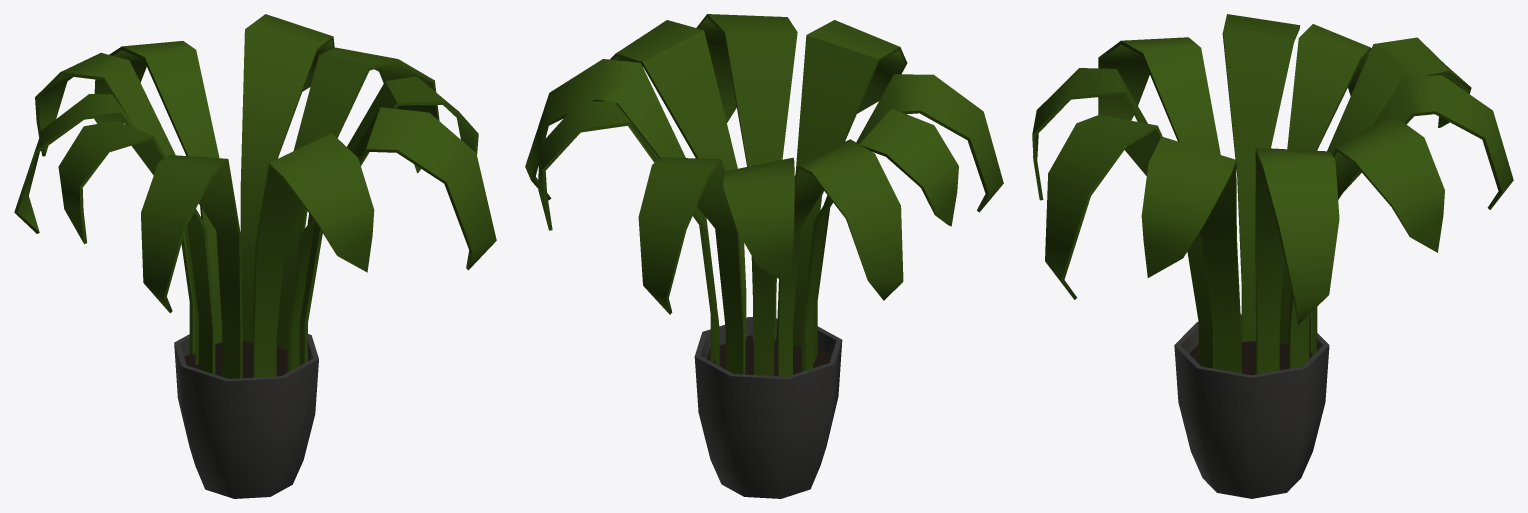
Rendered from Houseplant_6.obj.
3 views of the same model, side by side, from view 1: azimuth 30°, elevation 25°; view 2: azimuth 150°, elevation 25°; view 3: azimuth 270°, elevation 25° (orthographic). The views are drawn at different scales.
Parts seen in each view (by area): view 1: Houseplant_6_Cylinder.015; view 2: Houseplant_6_Cylinder.015; view 3: Houseplant_6_Cylinder.015.
Part boxes in pixels (bbox=[...]): Houseplant_6_Cylinder.015: bbox=[14, 14, 496, 498]; Houseplant_6_Cylinder.015: bbox=[525, 14, 1003, 498]; Houseplant_6_Cylinder.015: bbox=[1032, 14, 1513, 498].
Bounding box in the file's own units: 1.04 × 0.9586 × 1.05.
